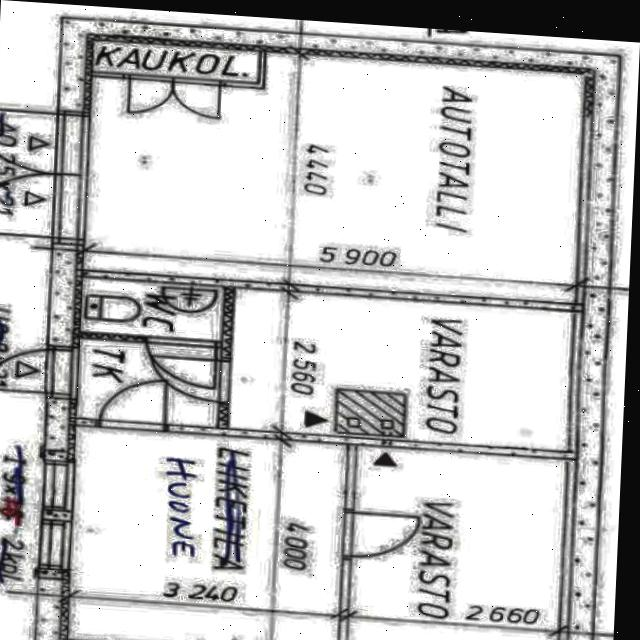room: (79, 41, 588, 303), (225, 289, 575, 452), (65, 427, 349, 615), (345, 446, 569, 631), (75, 340, 220, 427), (78, 278, 223, 341)
